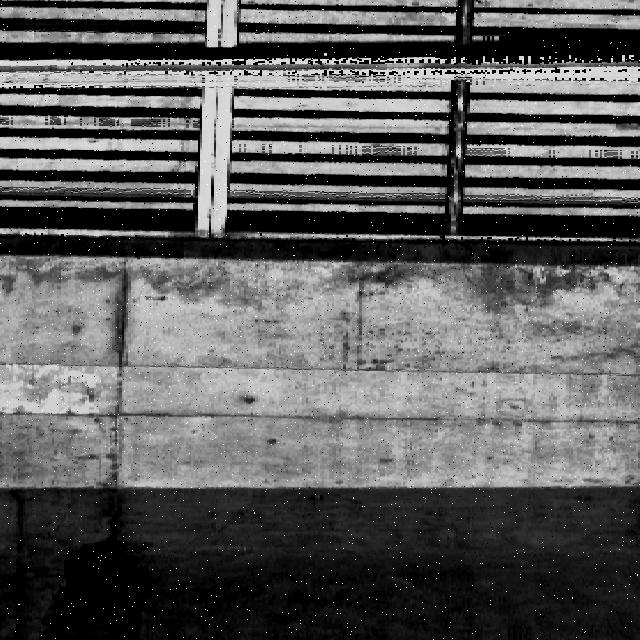leakage: (44, 501, 156, 639)
